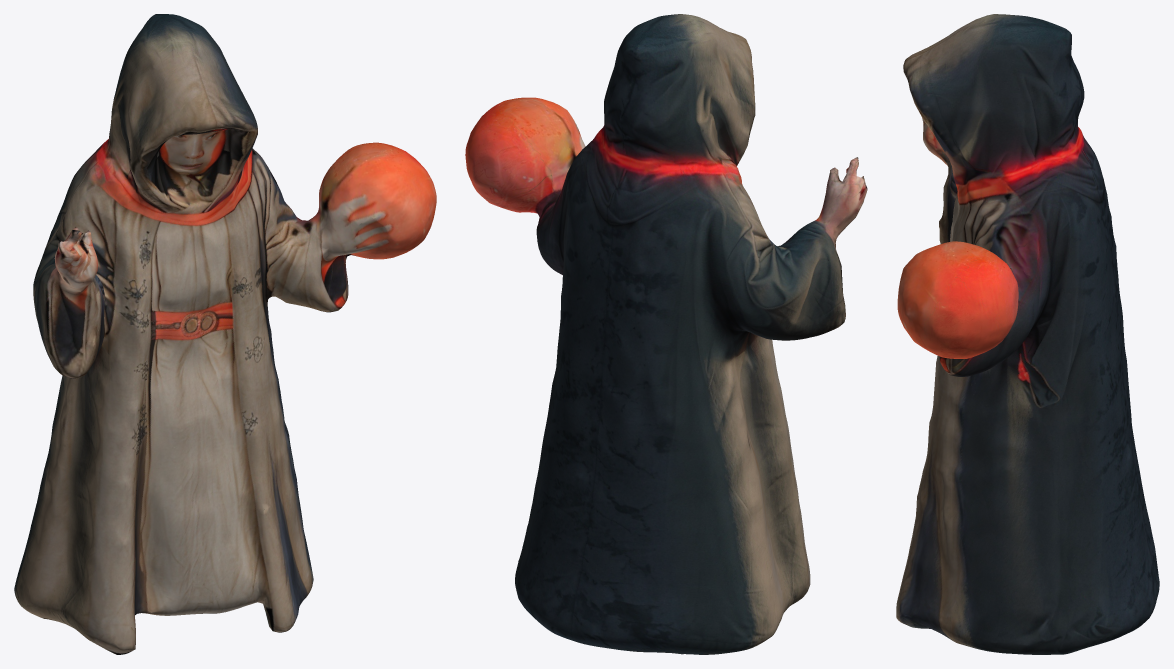
3 renders of one model, left to right at view 1: azimuth 30°, elevation 25°; view 2: azimuth 150°, elevation 25°; view 3: azimuth 270°, elevation 25°, orthographic.
Visible parts, largest first — view 1: mesh_0; view 2: mesh_0; view 3: mesh_0.
Part boxes in pixels (x1,y1,x2,y2): mesh_0: (14,14,436,654); mesh_0: (465,14,867,654); mesh_0: (896,14,1159,654).
Bounding box in the file's own units: 0.8154 × 1.2 × 0.488.
1 material, 1 textured.
